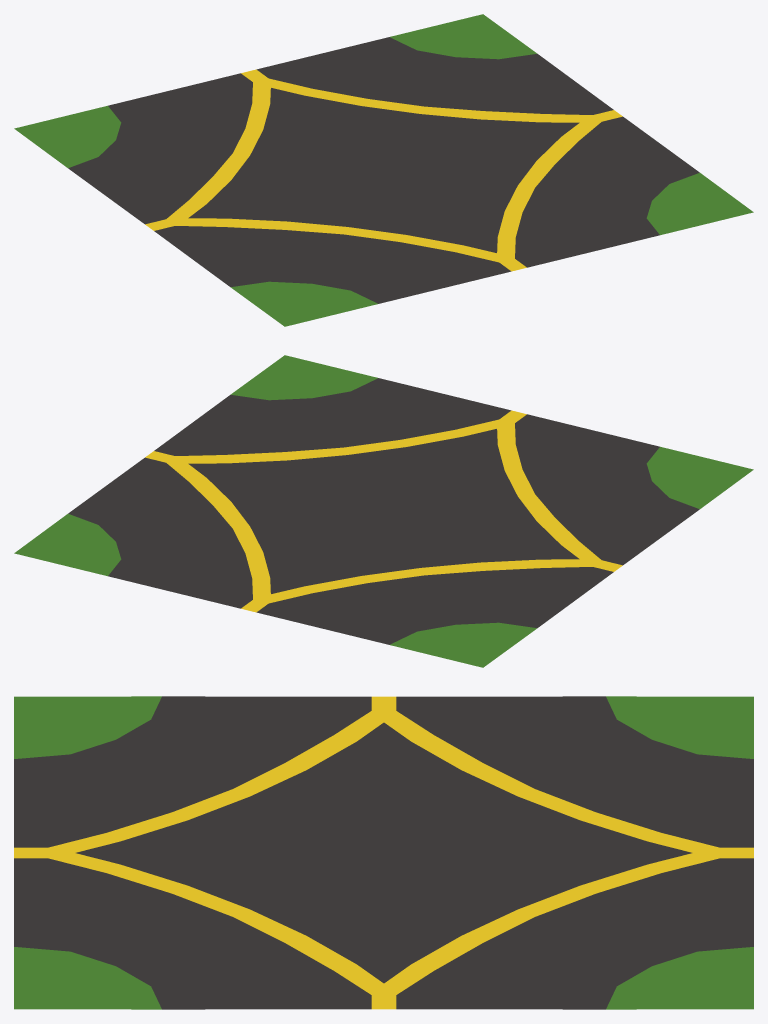
The model's file is tiles-nb_tile-runway-intersection-nb.fbx.
3 views of the same model, one above another, from view 1: azimuth 30°, elevation 25°; view 2: azimuth 150°, elevation 25°; view 3: azimuth 270°, elevation 25° (orthographic). The views are drawn at different scales.
Parts seen in each view (by area): view 1: tiles_nb_tile_runway_intersection_nb; view 2: tiles_nb_tile_runway_intersection_nb; view 3: tiles_nb_tile_runway_intersection_nb.
Part boxes in pixels (x1=…): tiles_nb_tile_runway_intersection_nb: x1=14, y1=14, x2=753, y2=326; tiles_nb_tile_runway_intersection_nb: x1=14, y1=355, x2=753, y2=667; tiles_nb_tile_runway_intersection_nb: x1=14, y1=696, x2=753, y2=1009.
Bounding box in the file's own units: 200 × 7.94e-06 × 200.
